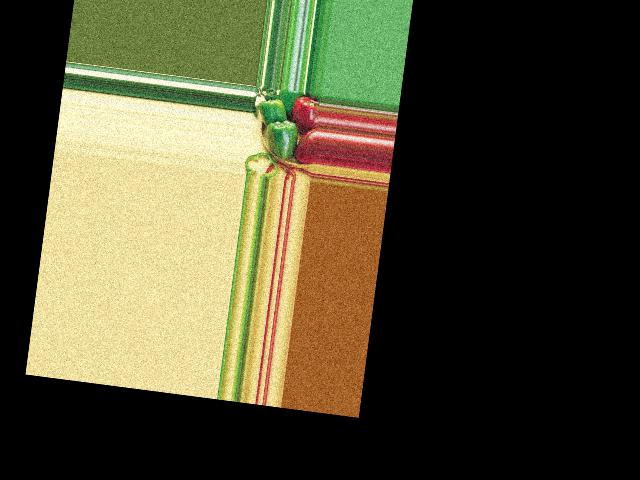bell_pepper: (295, 125, 316, 165)
